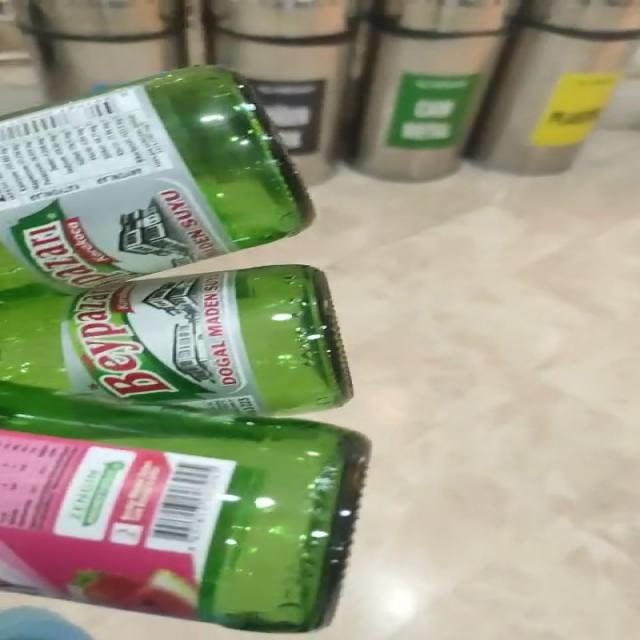glass: (1, 66, 371, 633)
